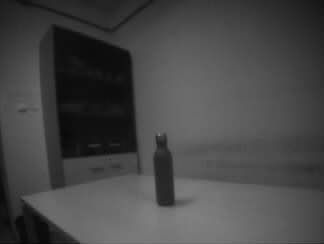Bottle: (153, 133, 174, 206)
